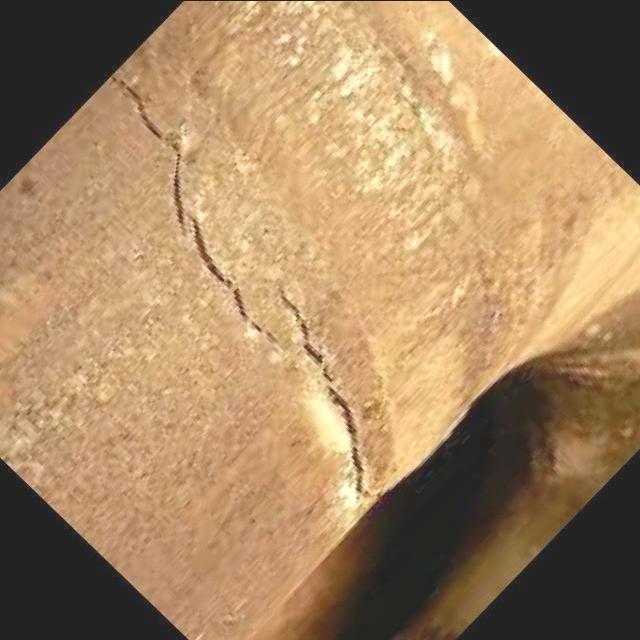defect: (102, 65, 284, 355), (266, 270, 388, 505)
